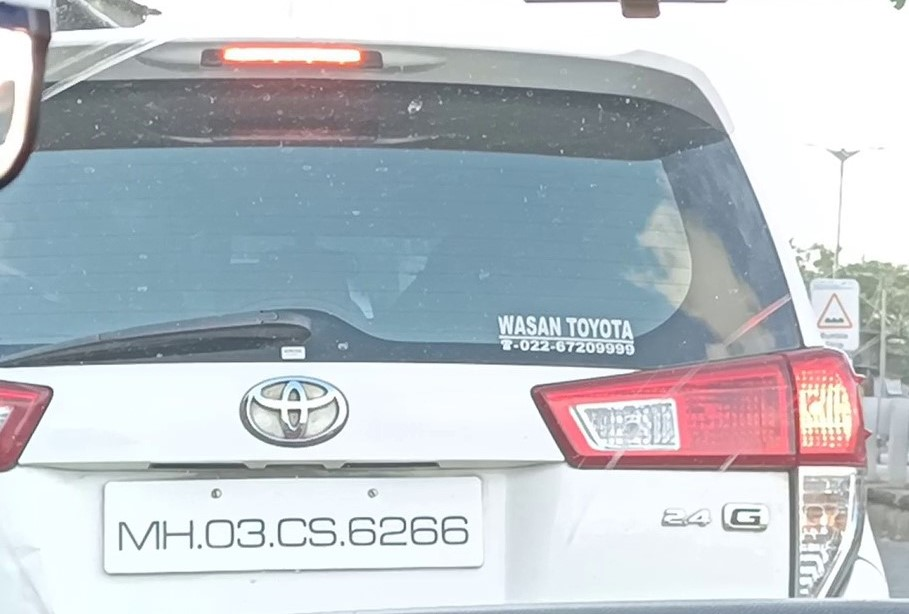MH03CS6266: (101, 474, 487, 575)
